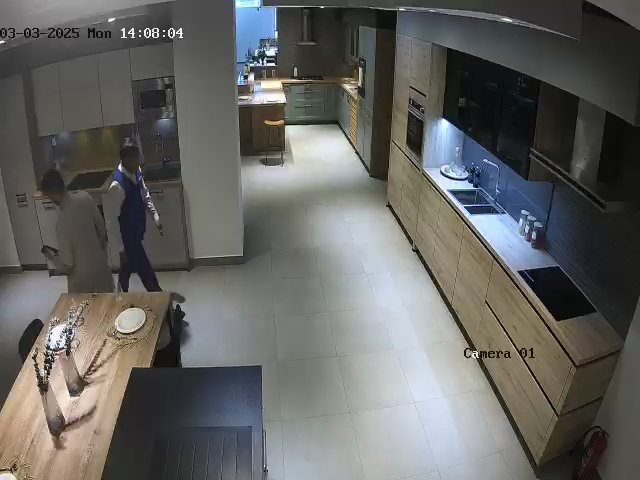employee: (109, 143, 164, 294)
male: (39, 168, 115, 294)
